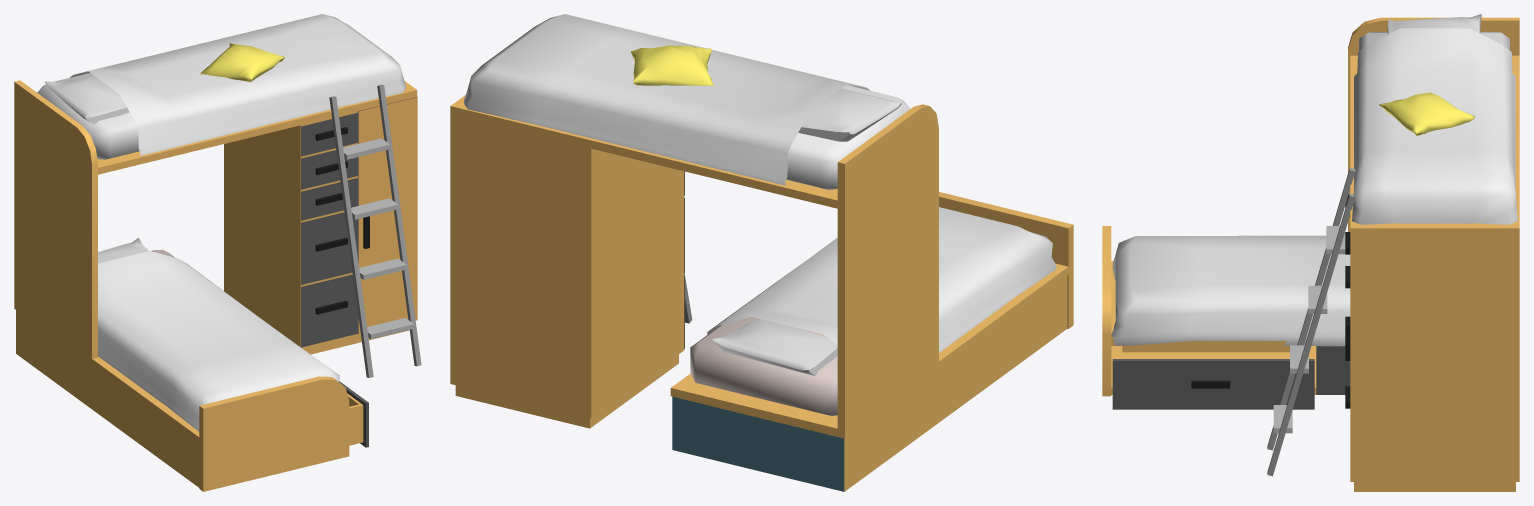
File: bed_006.glb
3 renders of one model, left to right at view 1: azimuth 30°, elevation 25°; view 2: azimuth 150°, elevation 25°; view 3: azimuth 270°, elevation 25°, orthographic. The views are drawn at different scales.
Parts seen in each view (by area): view 1: bed_006; view 2: bed_006; view 3: bed_006.
Part boxes in pixels (x1=…): bed_006: x1=14, y1=14, x2=421, y2=491; bed_006: x1=450, y1=14, x2=1073, y2=491; bed_006: x1=1102, y1=14, x2=1519, y2=491.
Bounding box in the file's own units: 2.5 × 2.13 × 2.51.
Materials: 1 (1 with a texture image).
